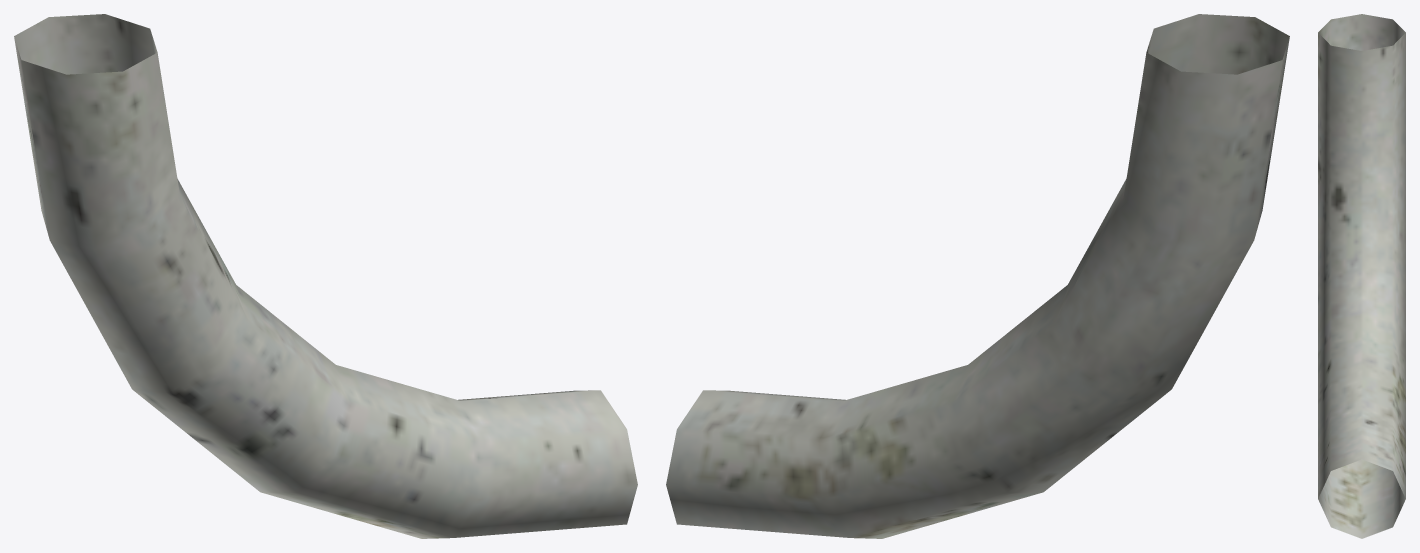
The model's file is p6_garage_pipes_90deg03_LOD0.obj.
3 views of the same model, side by side, from view 1: azimuth 30°, elevation 25°; view 2: azimuth 150°, elevation 25°; view 3: azimuth 270°, elevation 25° (orthographic). The views are drawn at different scales.
Visible parts, largest first — view 1: mtl_p6_pipes_garage; view 2: mtl_p6_pipes_garage; view 3: mtl_p6_pipes_garage.
Boxes of the visible parts, x1,y1,x2,y2 form: mtl_p6_pipes_garage: [14, 14, 637, 538]; mtl_p6_pipes_garage: [666, 14, 1289, 538]; mtl_p6_pipes_garage: [1318, 14, 1405, 538].
Bounding box in the file's own units: 22.86 × 22.86 × 5.08.
